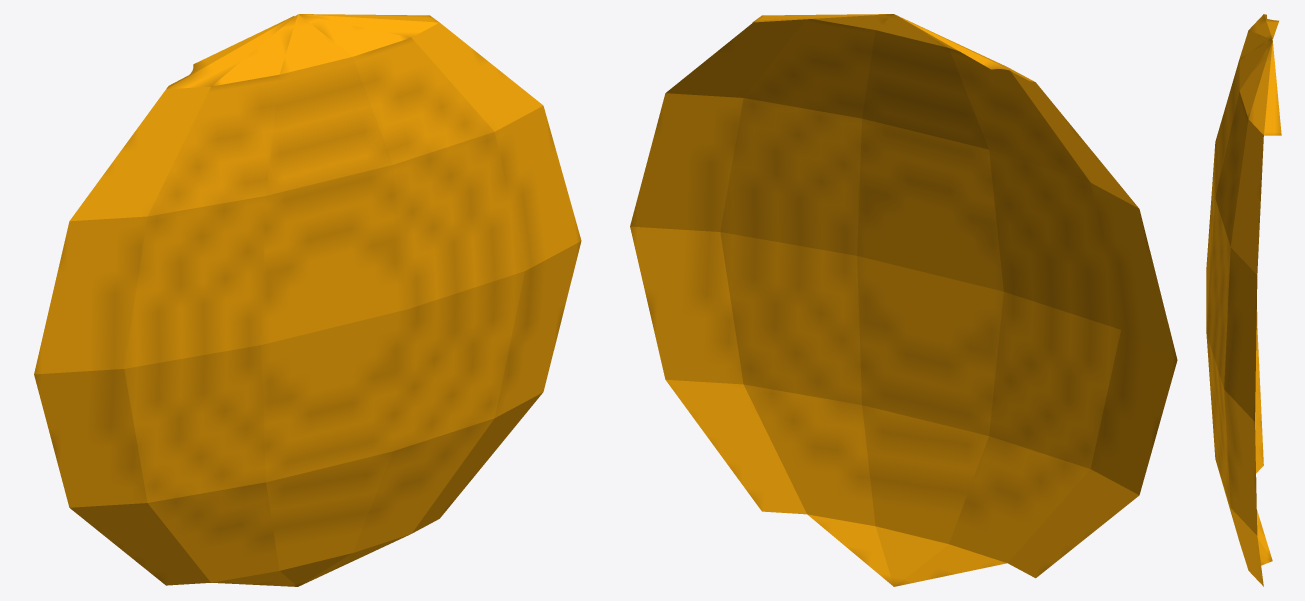
Rendered from nyc_subway_signal_light_3y_light_layer.obj.
The picture shows the model from 3 angles, left to right: view 1: azimuth 30°, elevation 25°; view 2: azimuth 150°, elevation 25°; view 3: azimuth 270°, elevation 25°; orthographic projection. The views are drawn at different scales.
Visible parts, largest first — view 1: light; view 2: light; view 3: light.
Part boxes in pixels (x1,y1,x2,y2): light: (34, 14, 581, 586); light: (630, 14, 1177, 586); light: (1206, 14, 1281, 586).
Size of the model in its own units: 0.2031 by 0.2031 by 0.0297.
Materials: 1 (1 with a texture image).
